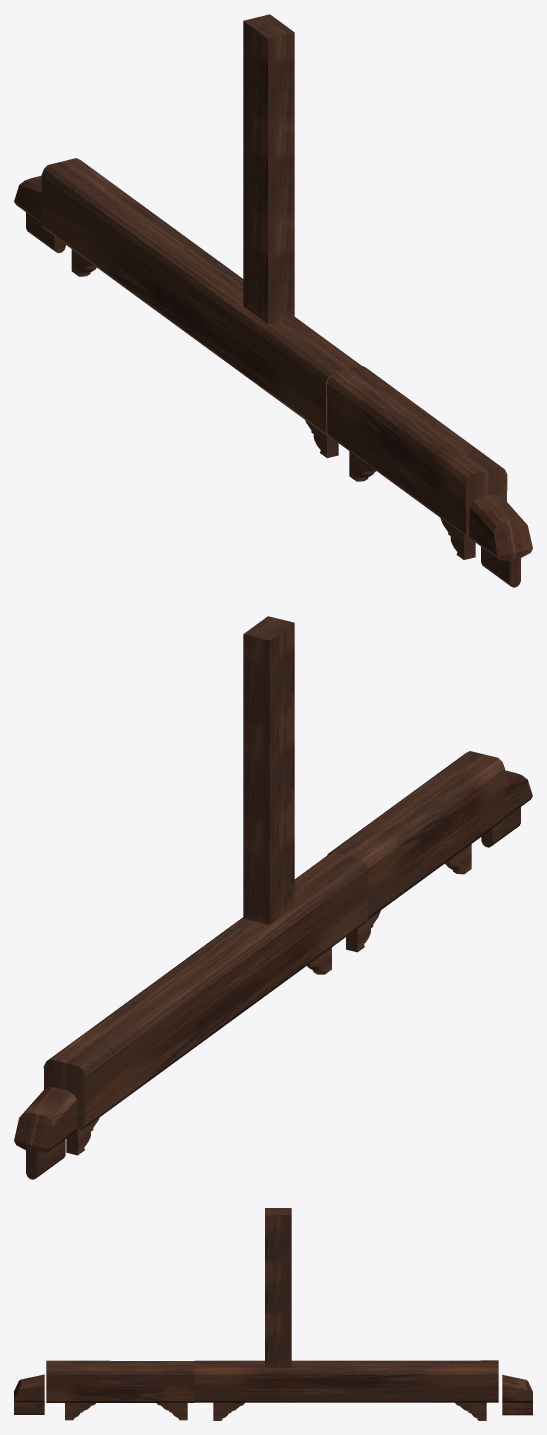
The model's file is SM_R_MiddleBeam_20.fbx.
3 views of the same model, one above another, from view 1: azimuth 30°, elevation 25°; view 2: azimuth 150°, elevation 25°; view 3: azimuth 270°, elevation 25° (orthographic). The views are drawn at different scales.
Parts seen in each view (by area): view 1: SM_R_MiddleBeam_20; view 2: SM_R_MiddleBeam_20; view 3: SM_R_MiddleBeam_20.
Boxes of the visible parts, x1=… form: SM_R_MiddleBeam_20: x1=14, y1=14, x2=532, y2=587; SM_R_MiddleBeam_20: x1=14, y1=616, x2=532, y2=1179; SM_R_MiddleBeam_20: x1=14, y1=1208, x2=532, y2=1420.
Bounding box in the file's own units: 26.46 × 517 × 228.
Materials: 3 (3 with a texture image).
